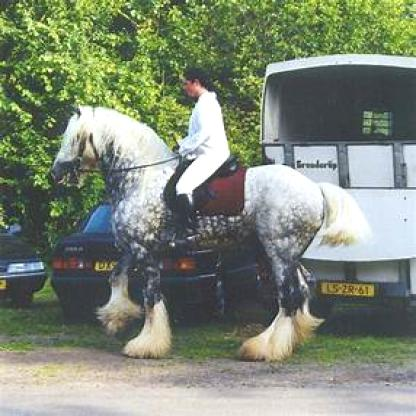horse: (51, 104, 362, 361)
